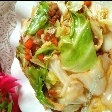juanxincairoupian: (15, 0, 112, 112)
